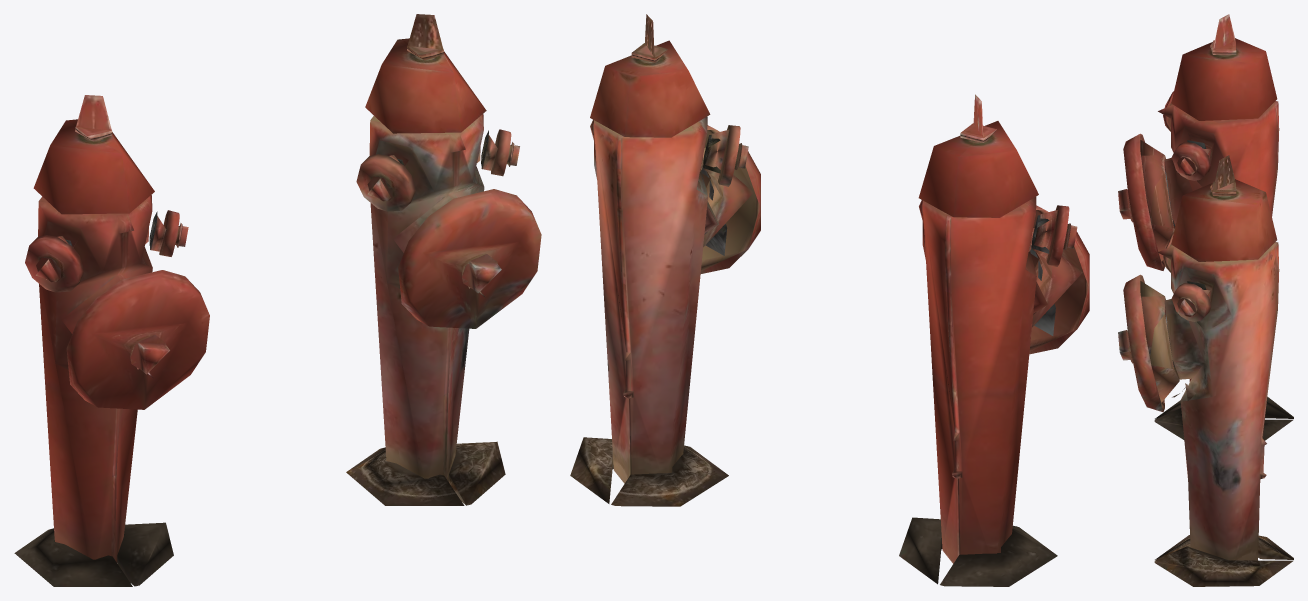
The model's file is fire_hydrant.glb.
3 renders of one model, left to right at view 1: azimuth 30°, elevation 25°; view 2: azimuth 150°, elevation 25°; view 3: azimuth 270°, elevation 25°, orthographic. The views are drawn at different scales.
Visible parts, largest first — view 1: fire_hydrant_aged, fire_hydrant, fire_hydrant_cap_01_aged, fire_hydrant_cap_01, fire_hydrant_cap_03, fire_hydrant_cap_03_aged, fire_hydrant_cap_02, fire_hydrant_cap_02_aged; view 2: fire_hydrant, fire_hydrant_aged, fire_hydrant_cap_01, fire_hydrant_cap_01_aged, fire_hydrant_cap_03_aged, fire_hydrant_cap_03; view 3: fire_hydrant_aged, fire_hydrant, fire_hydrant_cap_01_aged, fire_hydrant_cap_01, fire_hydrant_cap_02, fire_hydrant_cap_02_aged.
Boxes of the visible parts, x1=… form: fire_hydrant_aged: x1=346, y1=14, x2=505, y2=505; fire_hydrant: x1=14, y1=95, x2=173, y2=586; fire_hydrant_cap_01_aged: x1=398, y1=189, x2=541, y2=328; fire_hydrant_cap_01: x1=66, y1=270, x2=209, y2=409; fire_hydrant_cap_03: x1=25, y1=235, x2=84, y2=292; fire_hydrant_cap_03_aged: x1=356, y1=154, x2=415, y2=211; fire_hydrant_cap_02: x1=159, y1=210, x2=188, y2=256; fire_hydrant_cap_02_aged: x1=491, y1=129, x2=519, y2=176; fire_hydrant: x1=899, y1=94, x2=1082, y2=586; fire_hydrant_aged: x1=570, y1=14, x2=753, y2=506; fire_hydrant_cap_01: x1=1029, y1=205, x2=1089, y2=354; fire_hydrant_cap_01_aged: x1=700, y1=125, x2=760, y2=273; fire_hydrant_cap_03_aged: x1=718, y1=125, x2=748, y2=186; fire_hydrant_cap_03: x1=1046, y1=205, x2=1077, y2=266; fire_hydrant_aged: x1=1140, y1=155, x2=1293, y2=586; fire_hydrant: x1=1140, y1=14, x2=1293, y2=440; fire_hydrant_cap_01_aged: x1=1118, y1=274, x2=1164, y2=411; fire_hydrant_cap_01: x1=1118, y1=133, x2=1164, y2=270; fire_hydrant_cap_02: x1=1171, y1=142, x2=1211, y2=180; fire_hydrant_cap_02_aged: x1=1171, y1=283, x2=1211, y2=321.
Bounding box in the file's own units: 0.8726 × 0.7992 × 0.3163.
2 materials, 2 textured.
